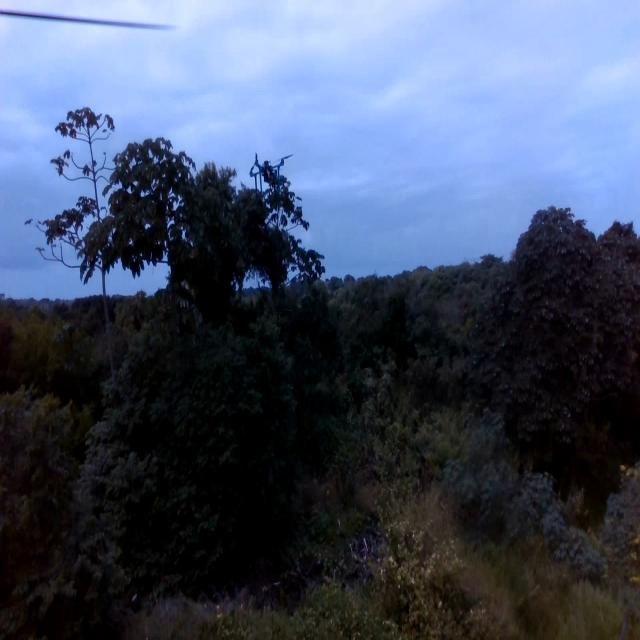-uav-: (244, 150, 298, 208)
